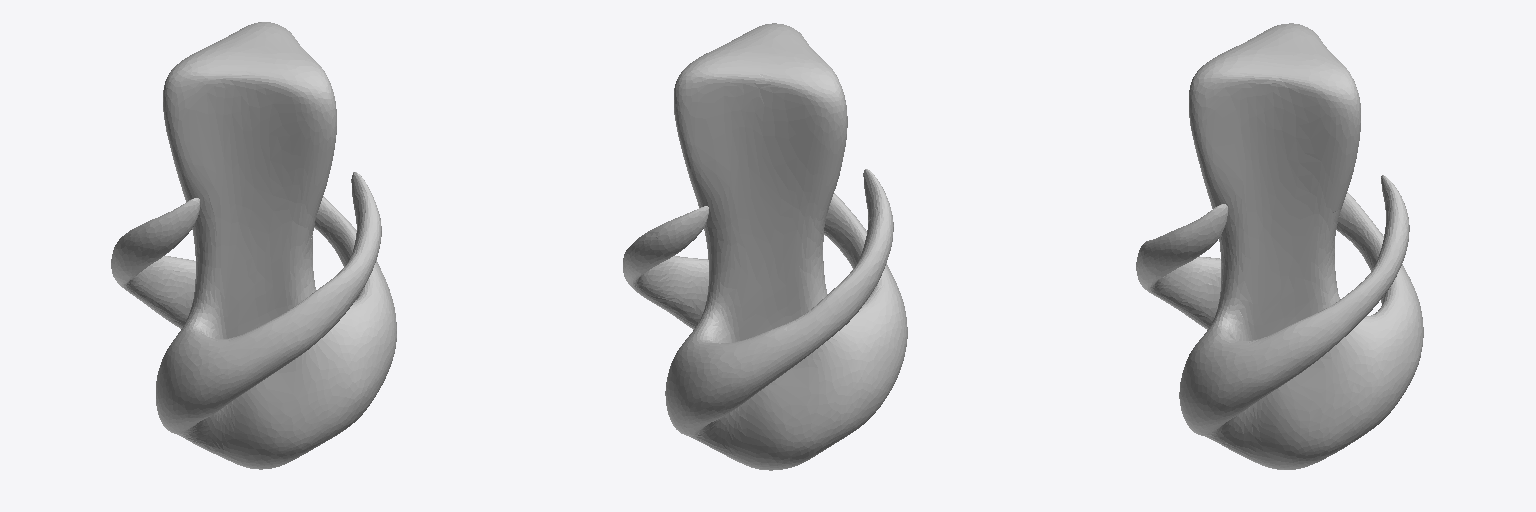
Rendered from move-arms.obj.
The picture shows the model from 3 angles: view 1: azimuth 30°, elevation 25°; view 2: azimuth 150°, elevation 25°; view 3: azimuth 270°, elevation 25°; orthographic projection.
Visible parts, largest first — view 1: Quad_Sphere; view 2: Quad_Sphere; view 3: Quad_Sphere.
Part boxes in pixels (bbox=[...]): Quad_Sphere: bbox=[111, 22, 396, 469]; Quad_Sphere: bbox=[623, 23, 907, 470]; Quad_Sphere: bbox=[1136, 23, 1423, 469].
Bounding box in the file's own units: 2.16 × 3.45 × 2.15.